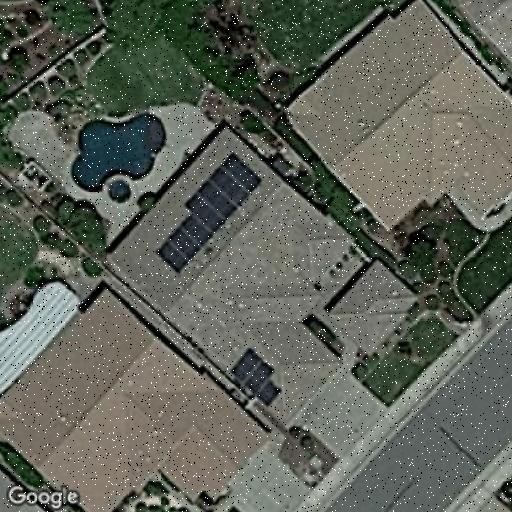solar-panel: (154, 150, 264, 274), (228, 344, 284, 408)
